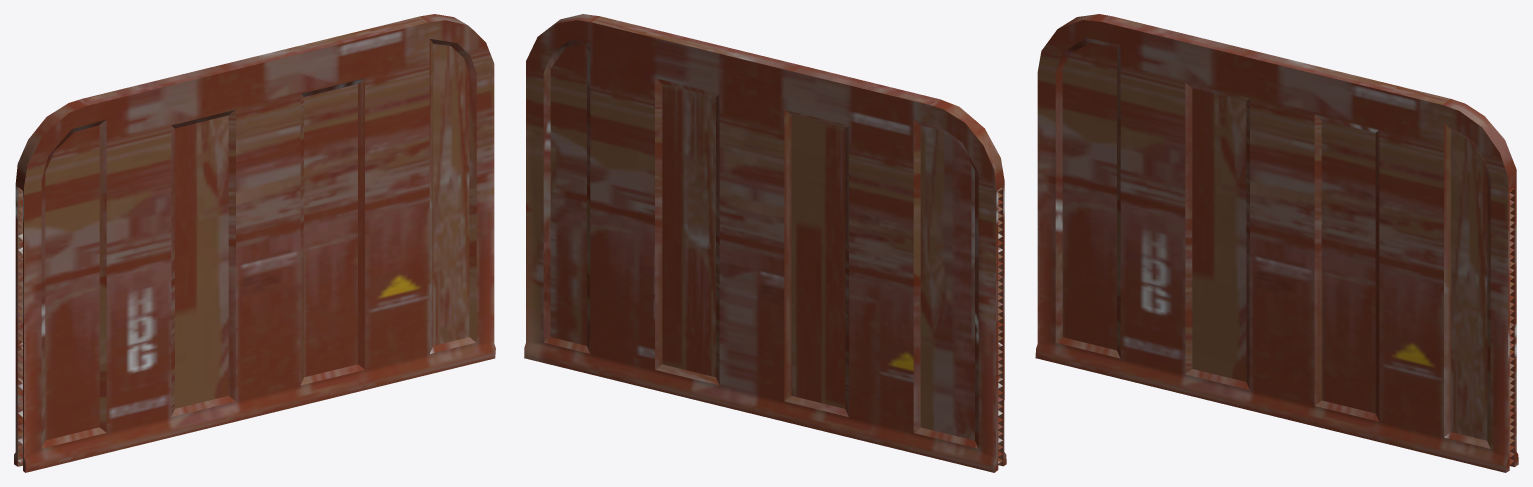
Rendered from SM_MetalGate01.gltf.
3 renders of one model, left to right at view 1: azimuth 30°, elevation 25°; view 2: azimuth 150°, elevation 25°; view 3: azimuth 330°, elevation 25°, orthographic.
Parts seen in each view (by area): view 1: SM_MetalGate01; view 2: SM_MetalGate01; view 3: SM_MetalGate01.
Boxes of the visible parts, <box> form: SM_MetalGate01: <box>14,14,495,472</box>; SM_MetalGate01: <box>524,14,1006,472</box>; SM_MetalGate01: <box>1035,14,1518,472</box>.
Bounding box in the file's own units: 4.96 × 3.53 × 0.2218.
1 material, 1 textured.
